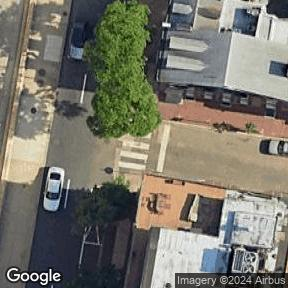vegetation: (69, 174, 139, 234), (64, 266, 120, 288), (247, 123, 253, 132)
